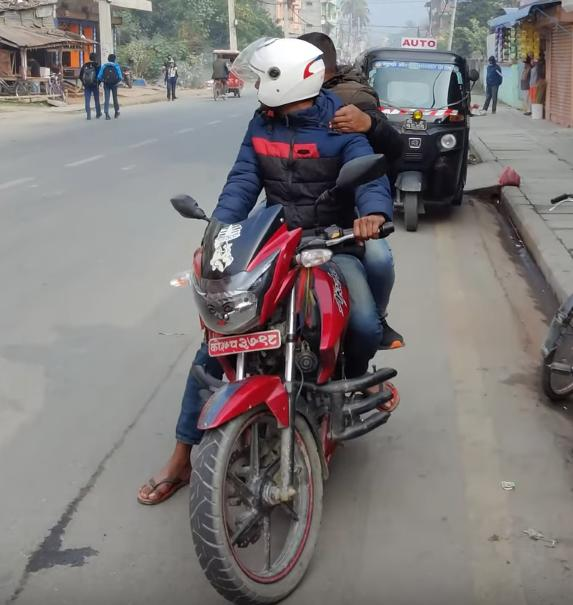bike: (163, 146, 412, 605)
